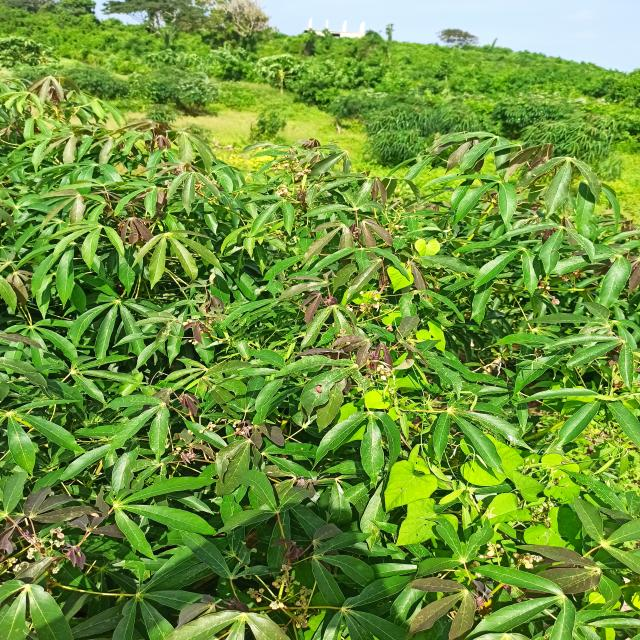Maleza: (468, 461, 566, 532), (211, 85, 327, 142), (387, 459, 453, 550), (377, 264, 414, 294), (403, 235, 440, 256)
Mosaico: (17, 491, 107, 554), (178, 390, 208, 462), (118, 213, 147, 245), (149, 127, 179, 155), (302, 292, 328, 319)
